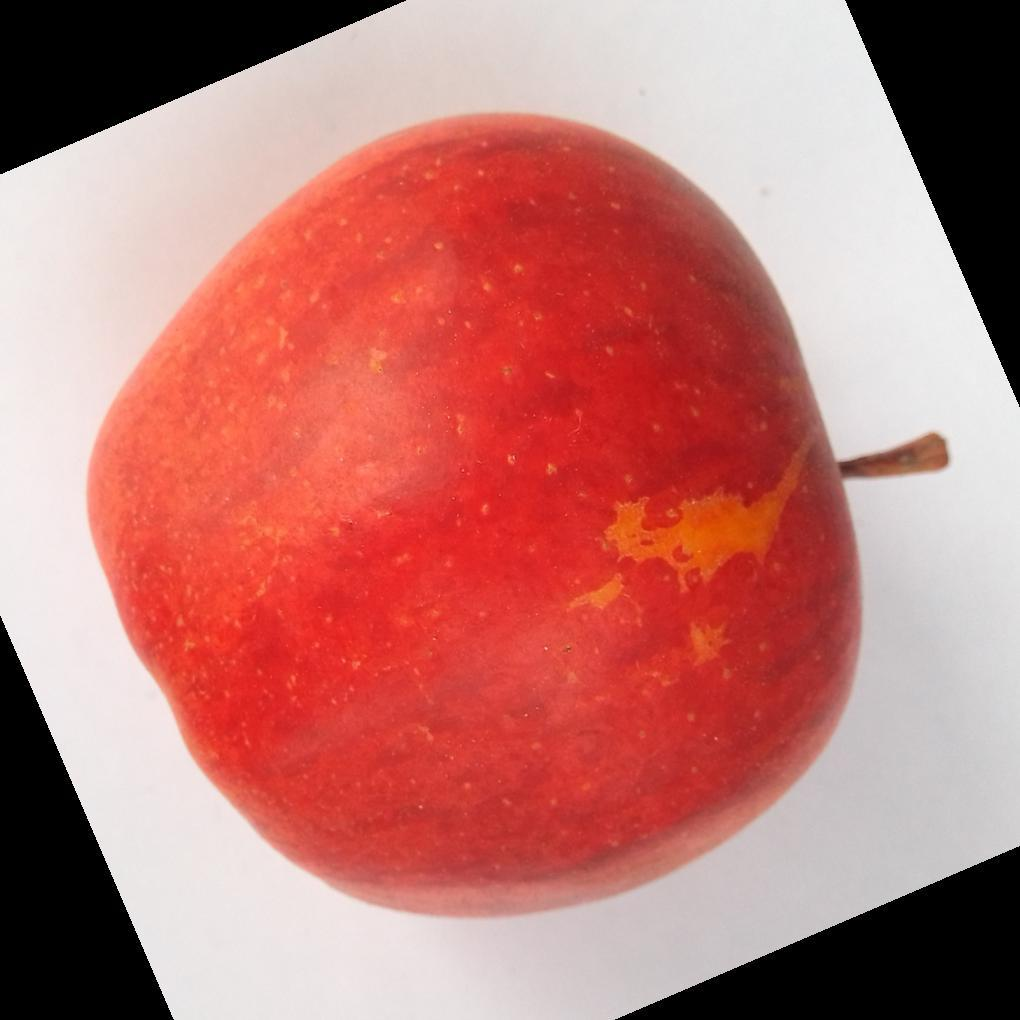FreshGuava: (81, 112, 864, 924)
